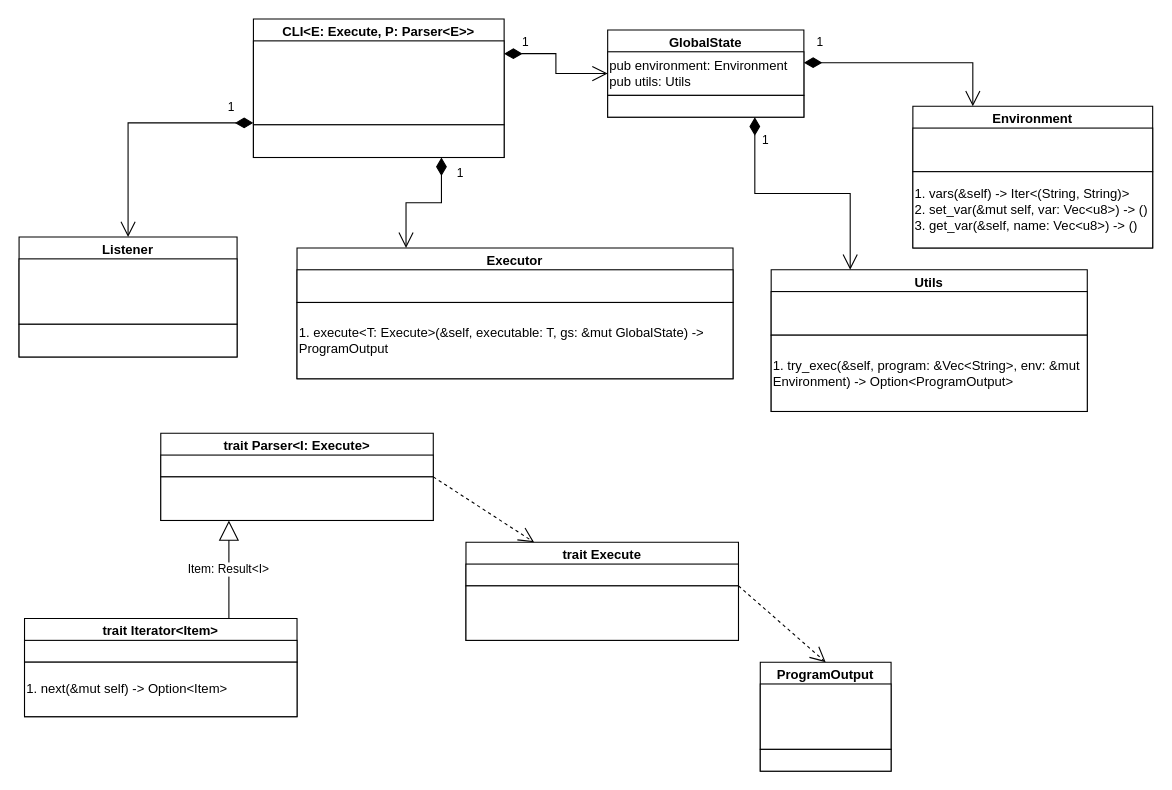
Some shapes in this 1172 by 790 pixel diagram are drawn without their labels. The shapes that lost their labels are listed below. From the top down, each one's centre as x and y in pixels, then its label:
At [378,82]: "listener: Listener parser: P global_state: GlobalState executor: Executor".
At [378,141]: "1. start()".
At [1032,149]: "map: HashMap<String, String>".
At [928,312]: "utils: HashMap<String, fn(...) -> ProgramOutput>".
At [127,340]: "1. listen(&self) -> String".
At [296,498]: "1. set_input(&mut self, input: &mut Vec<u8>)".
At [601,612]: "1. execute(self, gs: &mut GlobalState) -> ProgramOutput".
At [825,716]: "pub code: i32 pub stdout: Vec<u8> pub stderr: Vec<u8>".
